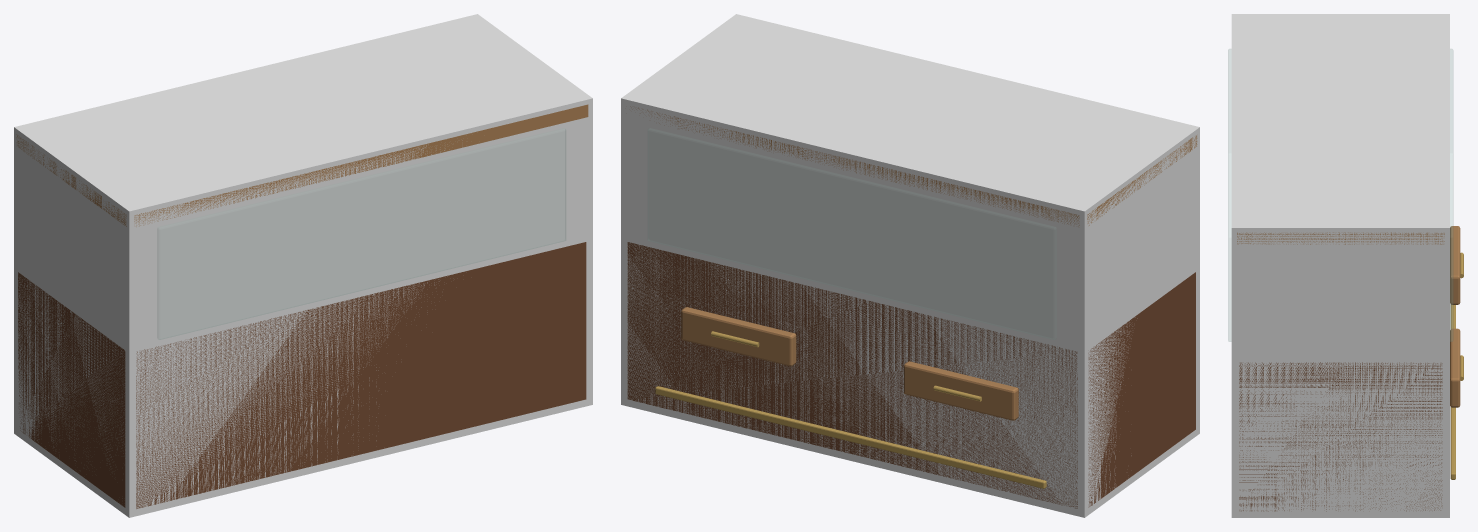
File: luxury.glb
3 views of the same model, side by side, from view 1: azimuth 30°, elevation 25°; view 2: azimuth 150°, elevation 25°; view 3: azimuth 270°, elevation 25° (orthographic). The views are drawn at different scales.
Parts seen in each view (by area): view 1: COL_JEWELRY_CASES_LUXURY, Showcase_Plinth.004, Showcase_Cap.003, Showcase_GlassBack.003; view 2: COL_JEWELRY_CASES_LUXURY, Showcase_Plinth.004, Showcase_Cap.003, Jewelry_Drawer_2, Jewelry_Drawer_1.001, Showcase_BrassToeKick, Showcase_GlassFront.003; view 3: COL_JEWELRY_CASES_LUXURY, Showcase_Plinth.004, Showcase_Cap.003, Showcase_GlassBack.003, Showcase_GlassFront.003, Jewelry_Drawer_2, Jewelry_Drawer_1.001, Showcase_BrassToeKick.
Boxes of the visible parts, bbox=[...] form: COL_JEWELRY_CASES_LUXURY: bbox=[14, 14, 592, 517]; Showcase_Plinth.004: bbox=[18, 242, 586, 508]; Showcase_Cap.003: bbox=[16, 104, 588, 226]; Showcase_GlassBack.003: bbox=[158, 129, 565, 339]; COL_JEWELRY_CASES_LUXURY: bbox=[621, 14, 1199, 517]; Showcase_Plinth.004: bbox=[627, 242, 1195, 508]; Showcase_Cap.003: bbox=[630, 106, 1197, 226]; Jewelry_Drawer_2: bbox=[681, 307, 796, 366]; Jewelry_Drawer_1.001: bbox=[904, 361, 1018, 420]; Showcase_BrassToeKick: bbox=[655, 386, 1046, 488]; Showcase_GlassFront.003: bbox=[648, 129, 1055, 339]; COL_JEWELRY_CASES_LUXURY: bbox=[1231, 14, 1449, 517]; Showcase_Plinth.004: bbox=[1239, 362, 1442, 511]; Showcase_Cap.003: bbox=[1237, 232, 1444, 244]; Showcase_GlassBack.003: bbox=[1228, 49, 1231, 341]; Showcase_GlassFront.003: bbox=[1450, 49, 1453, 341]; Jewelry_Drawer_2: bbox=[1450, 328, 1460, 407]; Jewelry_Drawer_1.001: bbox=[1450, 226, 1460, 304]; Showcase_BrassToeKick: bbox=[1450, 304, 1455, 479].
Bounding box in the file's own units: 1.73 × 1.09 × 0.8045.
